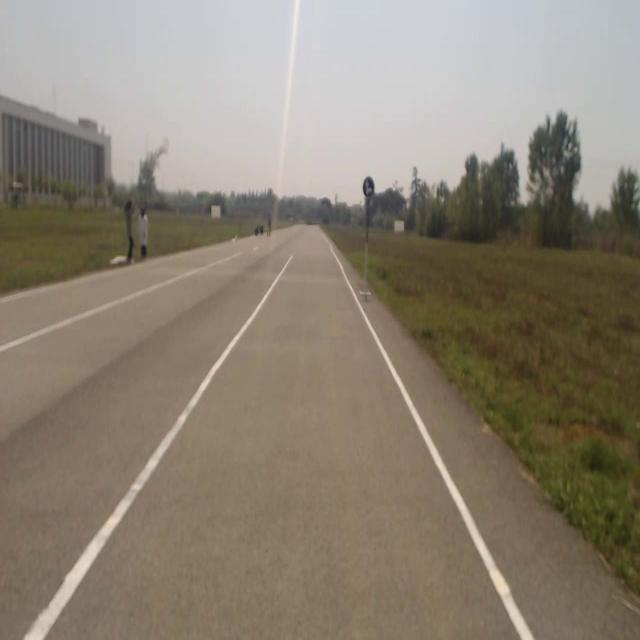ilerisag: (363, 175, 375, 198)
